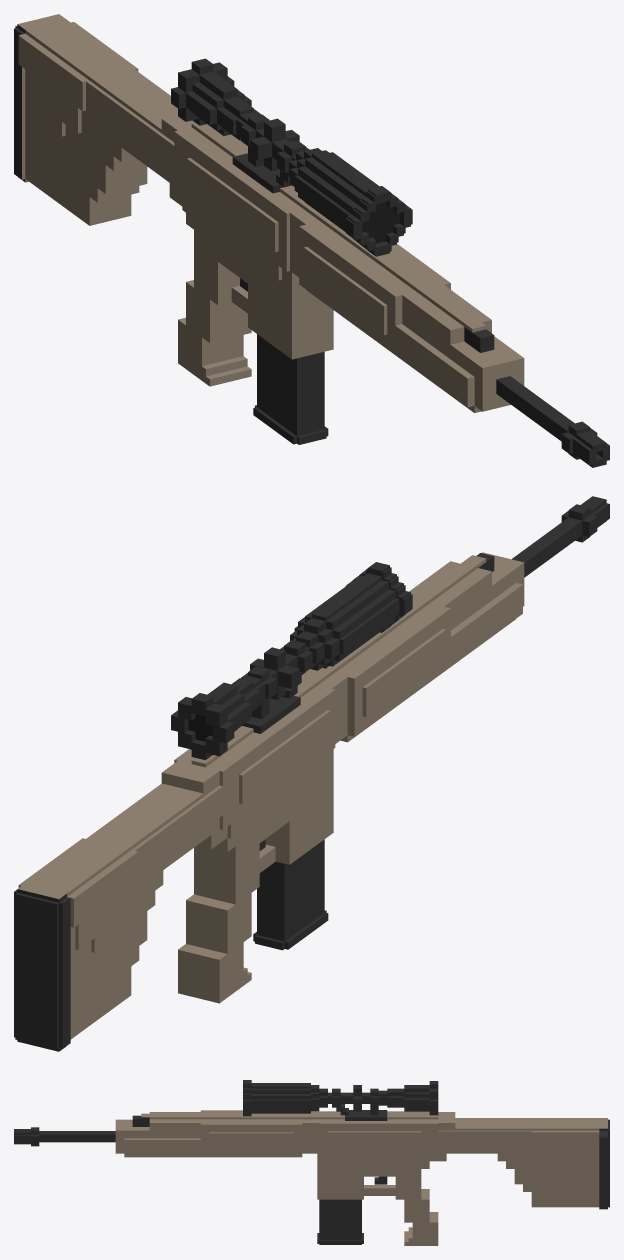
File: sniper.obj
The picture shows the model from 3 angles, top to bottom: view 1: azimuth 30°, elevation 25°; view 2: azimuth 150°, elevation 25°; view 3: azimuth 270°, elevation 25°; orthographic projection. The views are drawn at different scales.
Parts seen in each view (by area): view 1: Cube_Untitled.001_Mesh; view 2: Cube_Untitled.001_Mesh; view 3: Cube_Untitled.001_Mesh.
Part boxes in pixels (left/top/right/bottom): Cube_Untitled.001_Mesh: left=14, top=14, right=609, bottom=467; Cube_Untitled.001_Mesh: left=14, top=496, right=609, bottom=1051; Cube_Untitled.001_Mesh: left=14, top=1080, right=609, bottom=1245.
Size of the model in its own units: 0.3592 by 1.65 by 5.61.
